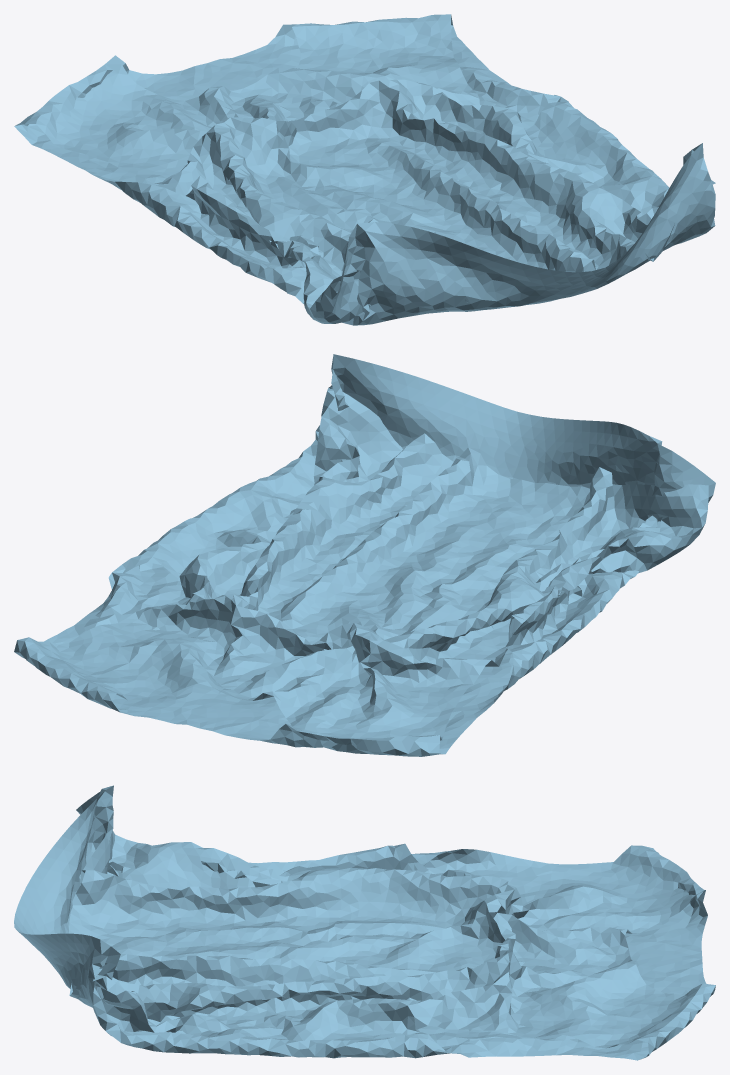
File: frame_05.glb
The picture shows the model from 3 angles, top to bottom: view 1: azimuth 30°, elevation 25°; view 2: azimuth 150°, elevation 25°; view 3: azimuth 270°, elevation 25°; orthographic projection. The views are drawn at different scales.
Visible parts, largest first — view 1: frame_05.obj; view 2: frame_05.obj; view 3: frame_05.obj.
Part boxes in pixels (x1=…): frame_05.obj: x1=14, y1=14, x2=715, y2=325; frame_05.obj: x1=14, y1=354, x2=715, y2=756; frame_05.obj: x1=14, y1=785, x2=715, y2=1060.
Size of the model in its own units: 1.24 by 0.309 by 1.8.
